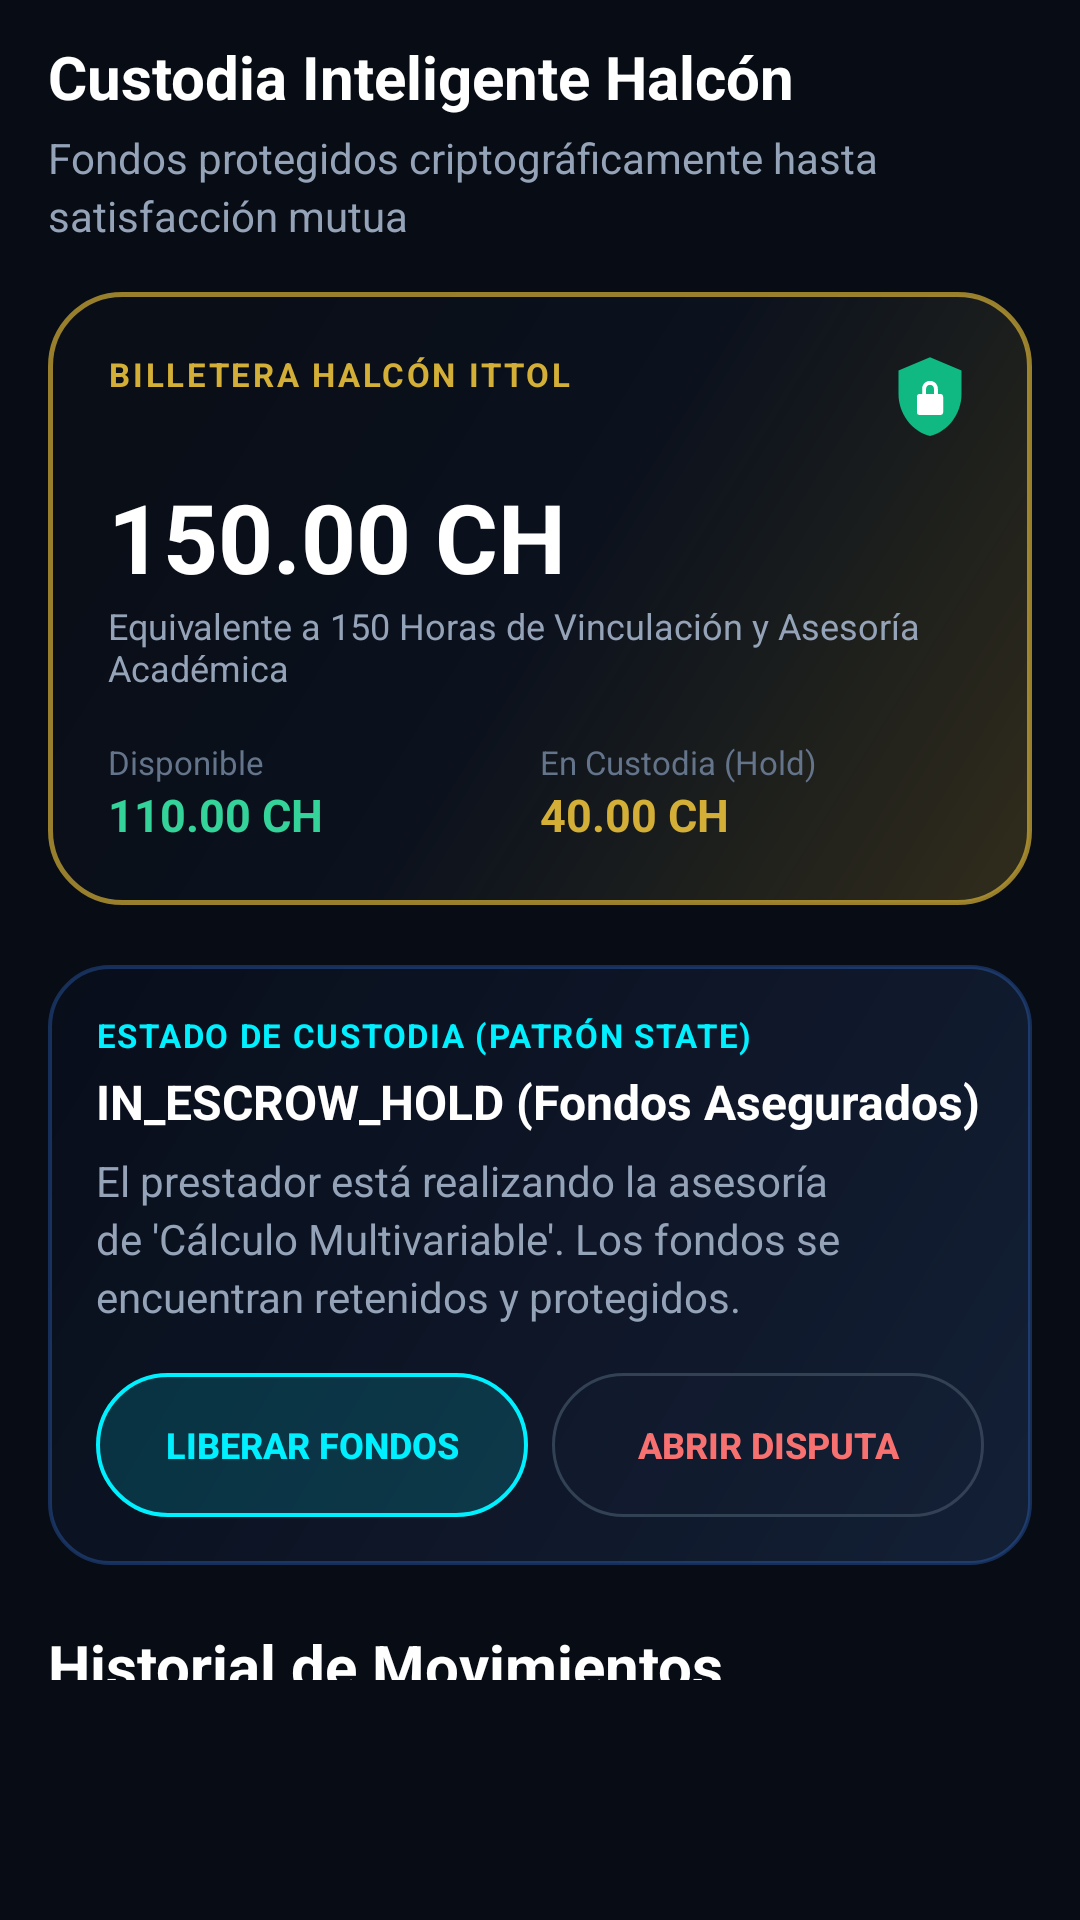

Screen size 1080x1920. Icon name, then its center in pixels as [x,y]:
Custodia Segura: [930,396]
